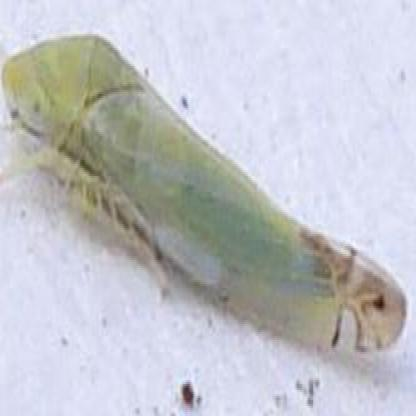green-leafhopper: (1, 31, 406, 355)
